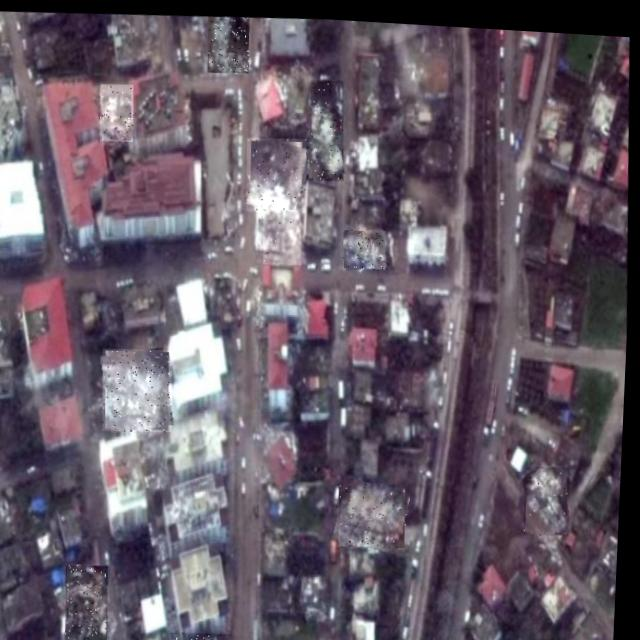Rubble: (103, 344, 178, 432), (338, 473, 414, 548), (245, 132, 310, 211), (68, 562, 116, 640), (526, 458, 575, 530), (206, 12, 251, 71), (309, 75, 346, 143), (263, 204, 305, 262), (99, 81, 136, 141), (344, 223, 389, 266), (307, 141, 346, 177), (177, 627, 237, 640)
